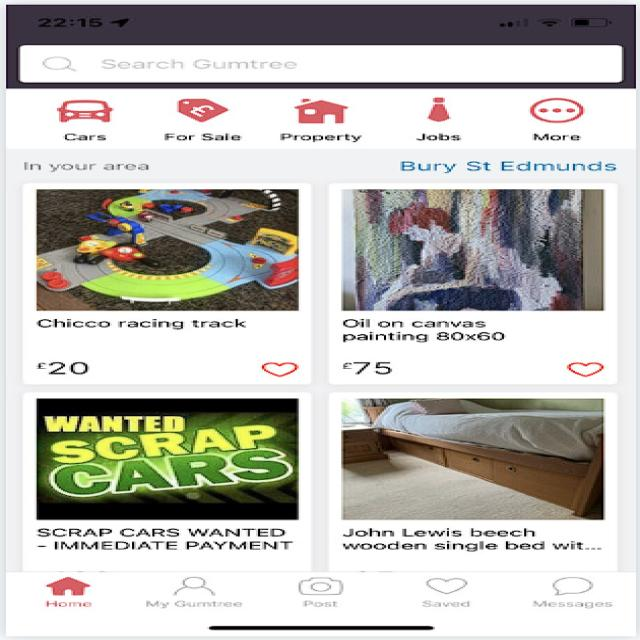column: (317, 175, 640, 570), (0, 175, 317, 575)
icon button: (140, 570, 254, 622), (526, 569, 632, 619), (24, 572, 126, 622), (282, 569, 373, 620), (404, 569, 502, 615)
image: (328, 392, 614, 520), (334, 182, 614, 312), (33, 184, 305, 316), (21, 397, 305, 523)
input: (8, 42, 640, 88)
row: (0, 176, 640, 389), (0, 391, 640, 574)
